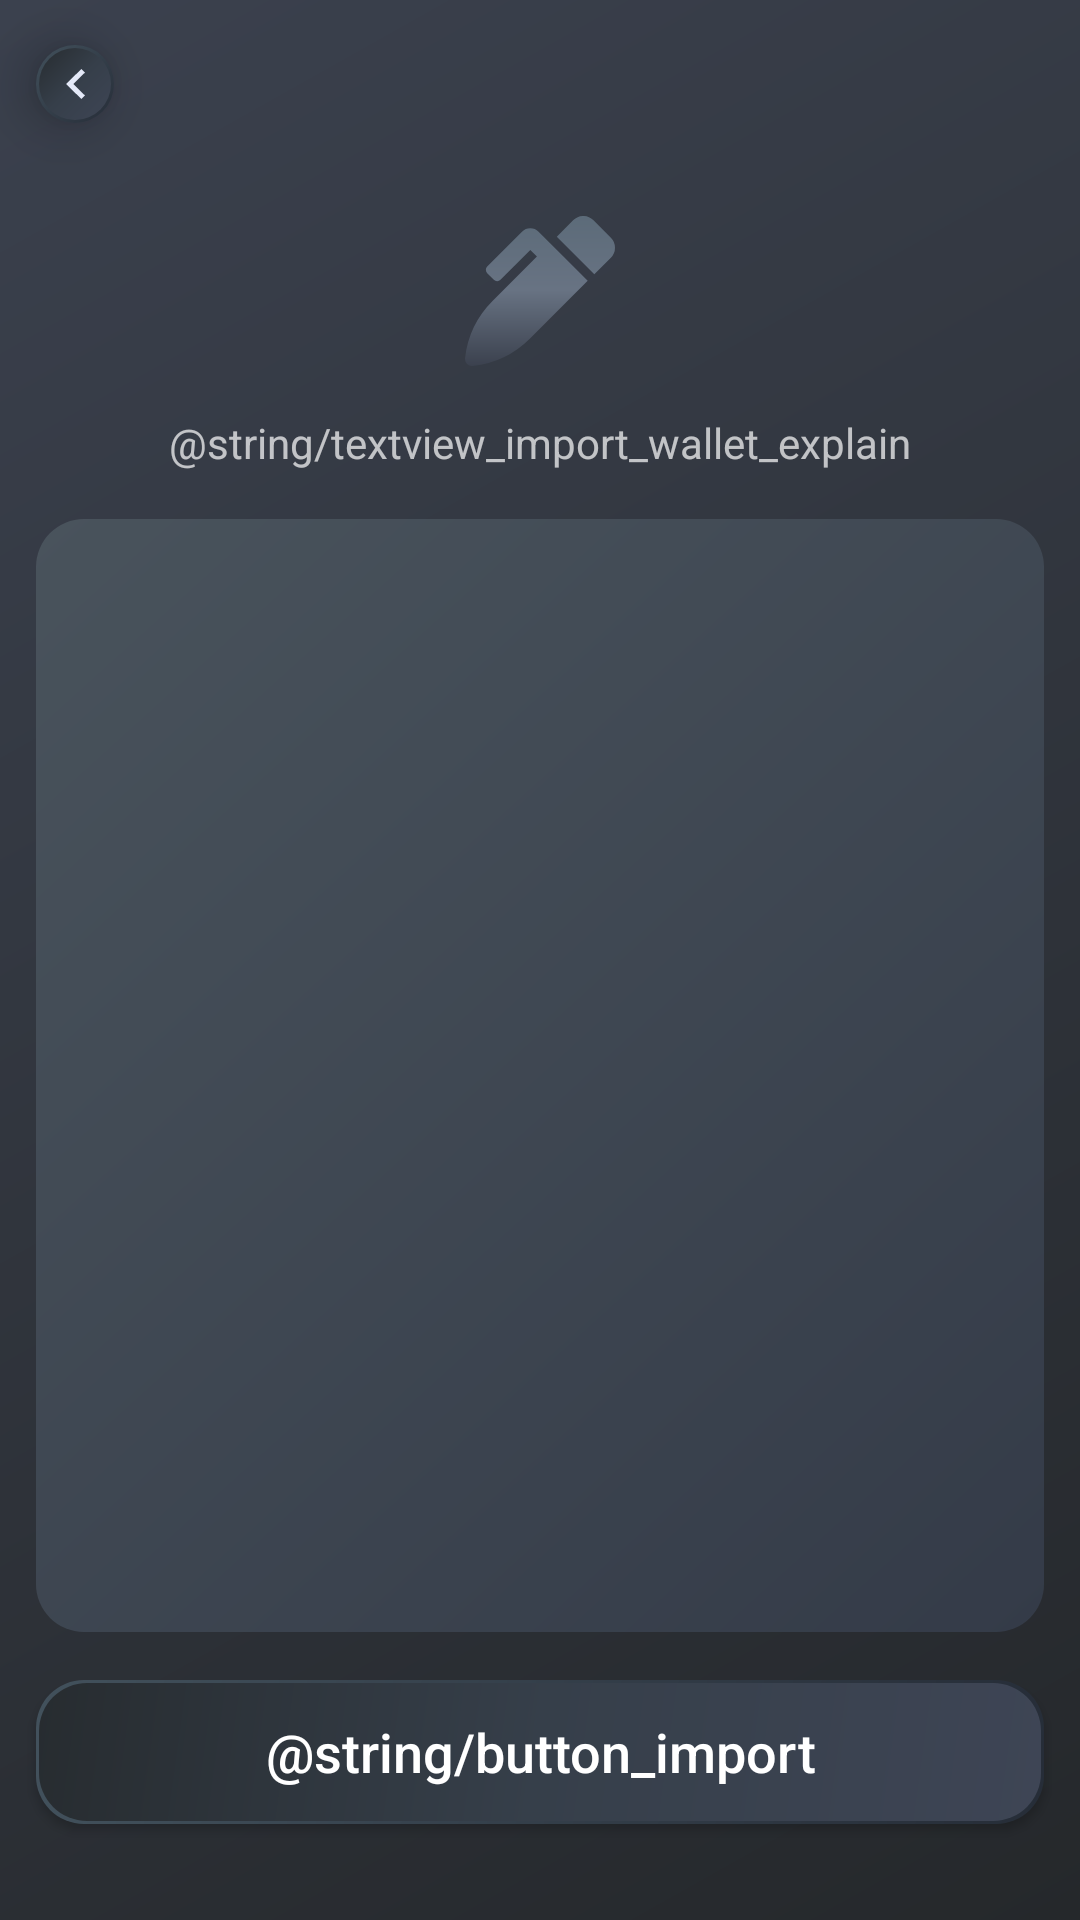

Named icons in this screenshot (1080px×1920px) and their bounding boxes, (x1, y1, x2, y2):
back: (66, 69, 85, 99)
pen: (468, 216, 615, 345)
